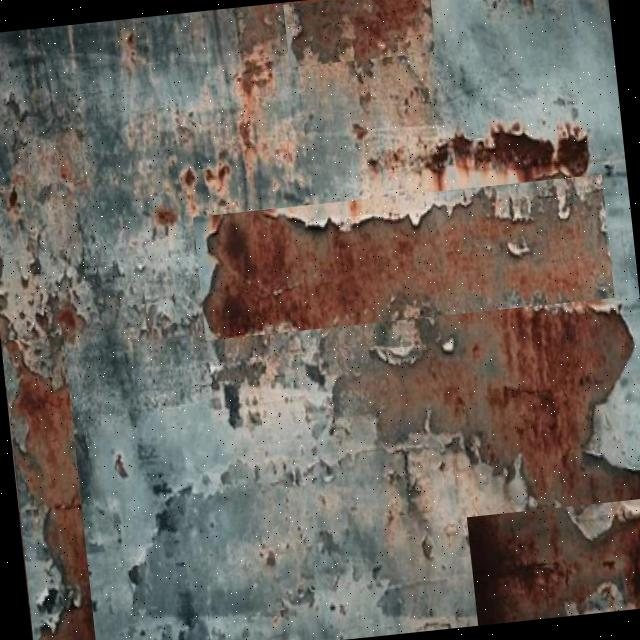Corrosion: (0, 0, 640, 640), (192, 170, 618, 342), (464, 493, 640, 624)
